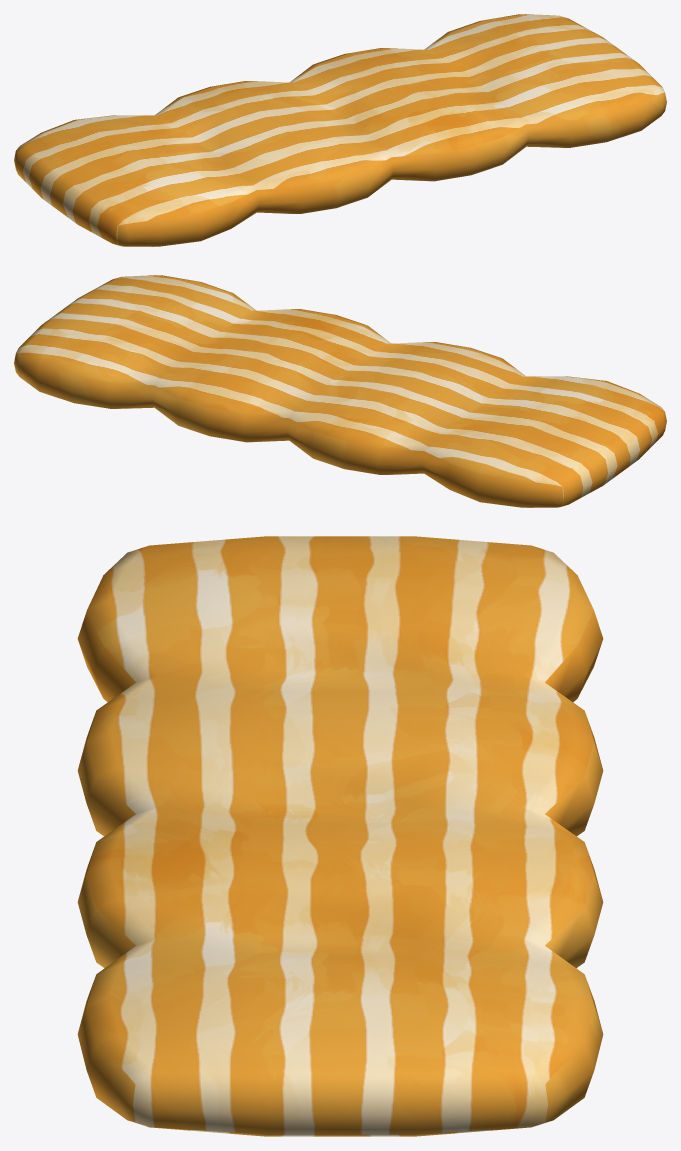
File: PoolToy01.glb
3 renders of one model, top to bottom at view 1: azimuth 30°, elevation 25°; view 2: azimuth 150°, elevation 25°; view 3: azimuth 270°, elevation 25°, orthographic. The views are drawn at different scales.
Visible parts, largest first — view 1: PoolToy01.001; view 2: PoolToy01.001; view 3: PoolToy01.001.
Part boxes in pixels (box(x1,y1,x2,y2)): PoolToy01.001: box(14, 14, 666, 246); PoolToy01.001: box(14, 275, 666, 507); PoolToy01.001: box(77, 536, 603, 1136).
Size of what is drawn, in the model's own units: 3.62 by 0.313 by 1.45.
Materials: 1 (1 with a texture image).
